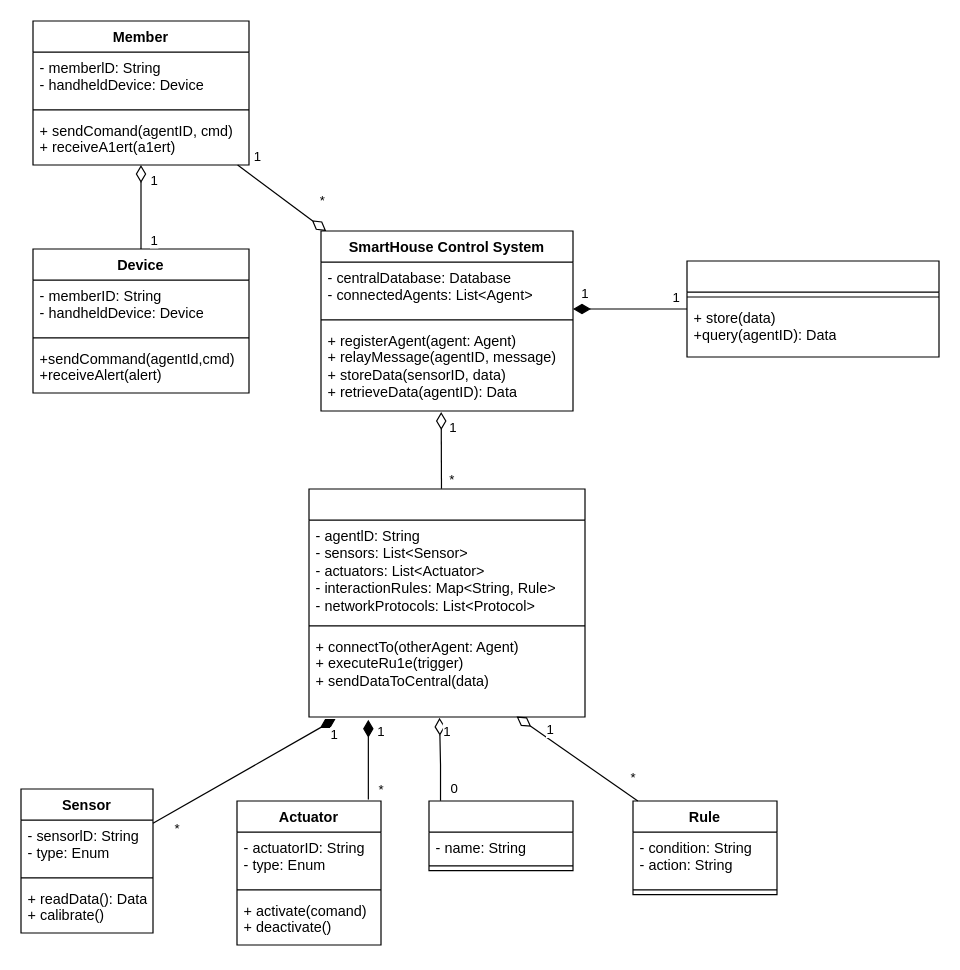
This 960x970 diagram has some shape labels left out. Here are the shapes that lost their labels. From the top down, the box of each, then its label:
(686, 260, 939, 357): Database
(308, 488, 585, 717): SmartInfill Component
(428, 800, 573, 871): Protcol
